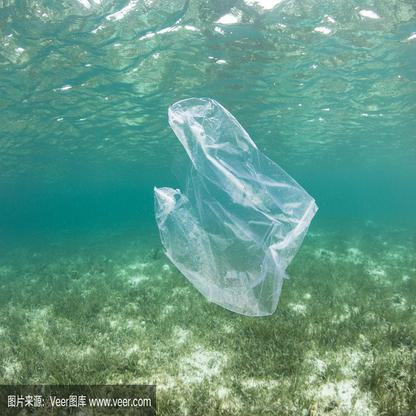plastic bag: (151, 93, 319, 316)
